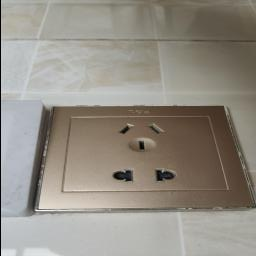outlet: (38, 96, 256, 218)
